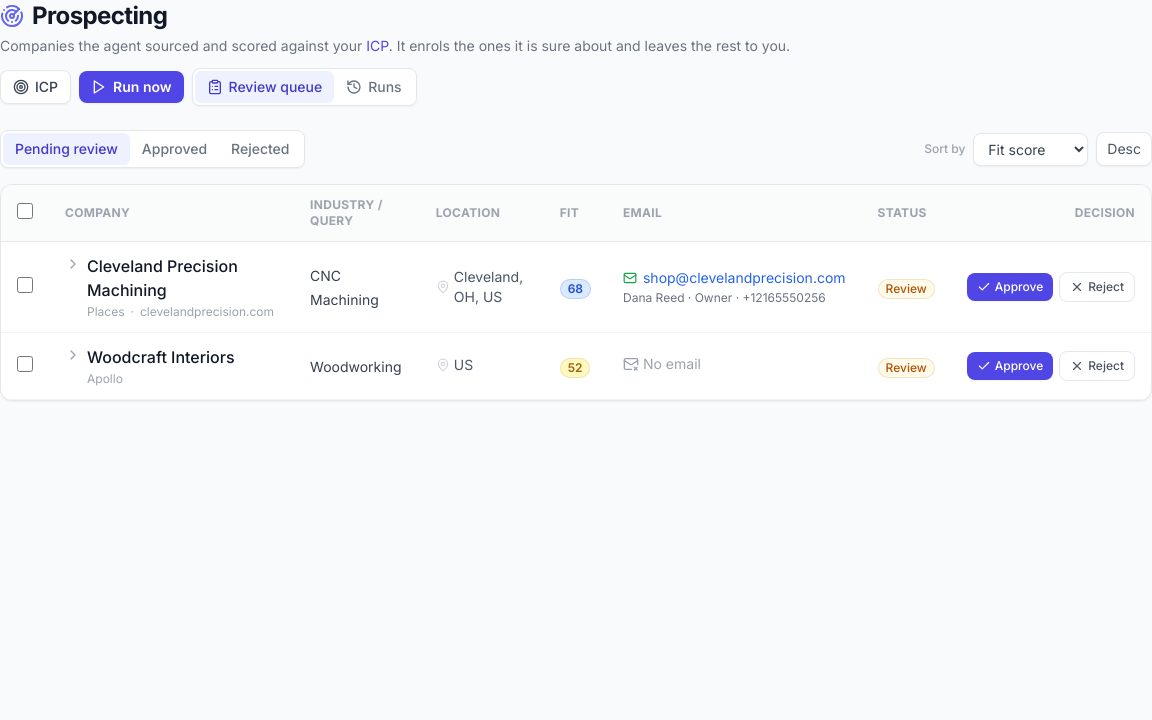
Test case: Prospecting page › holds a manual run behind a confirm that names what it spends and arms
Click the button "Run now".
click(131, 87)  # box [79, 71, 184, 103]
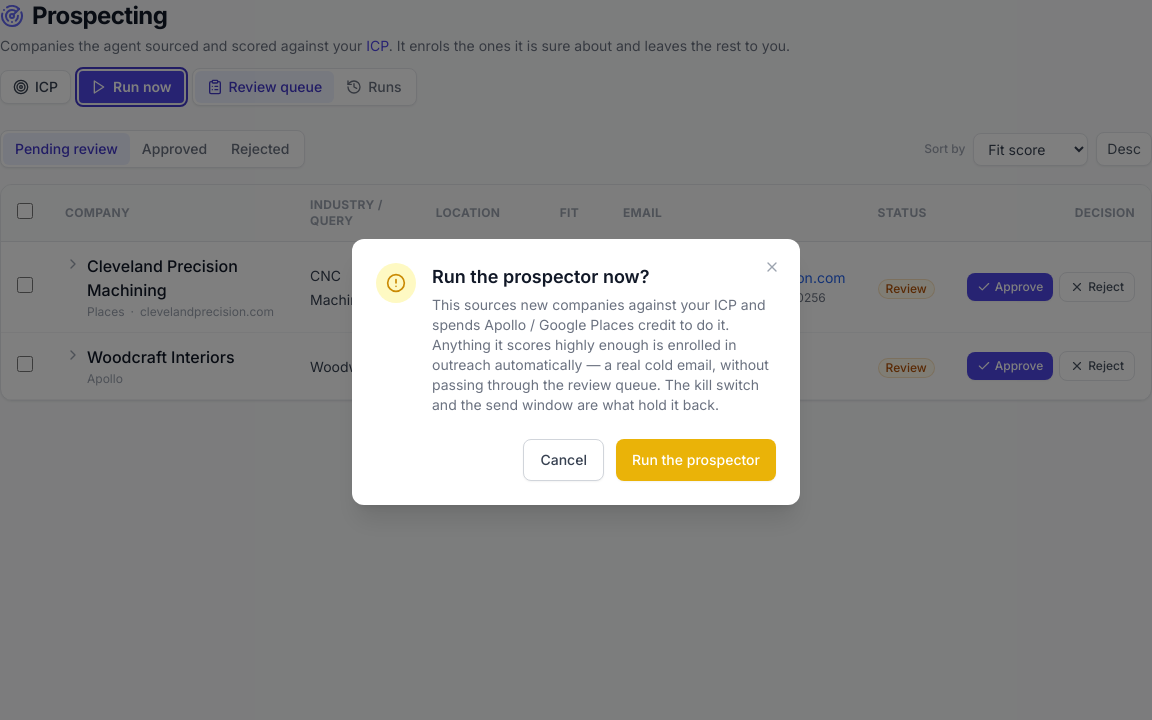
Expected: the text "enrolled in outreach automatically" is shown, [432, 296, 769, 413]
